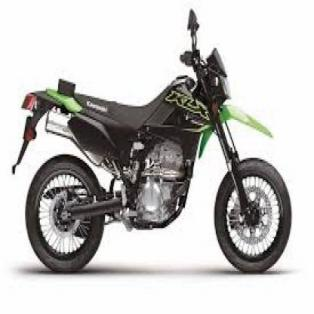Motocicleta: (15, 4, 294, 277)
